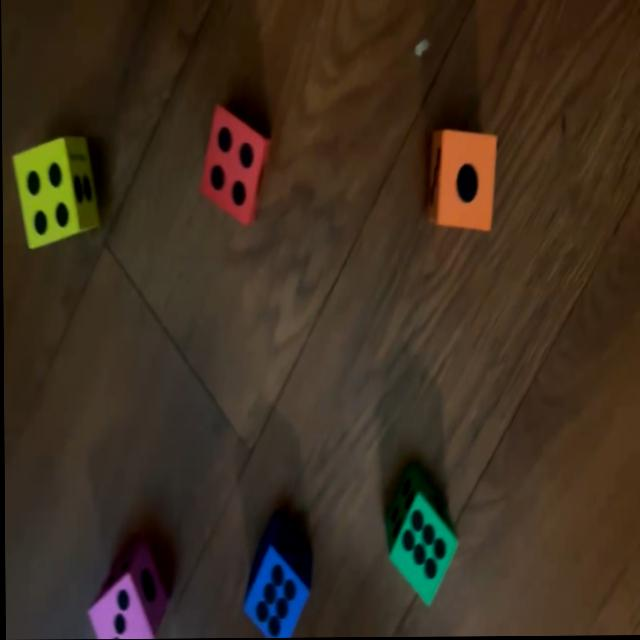blue_block: (243, 516, 309, 639)
red_block: (198, 103, 271, 227)
